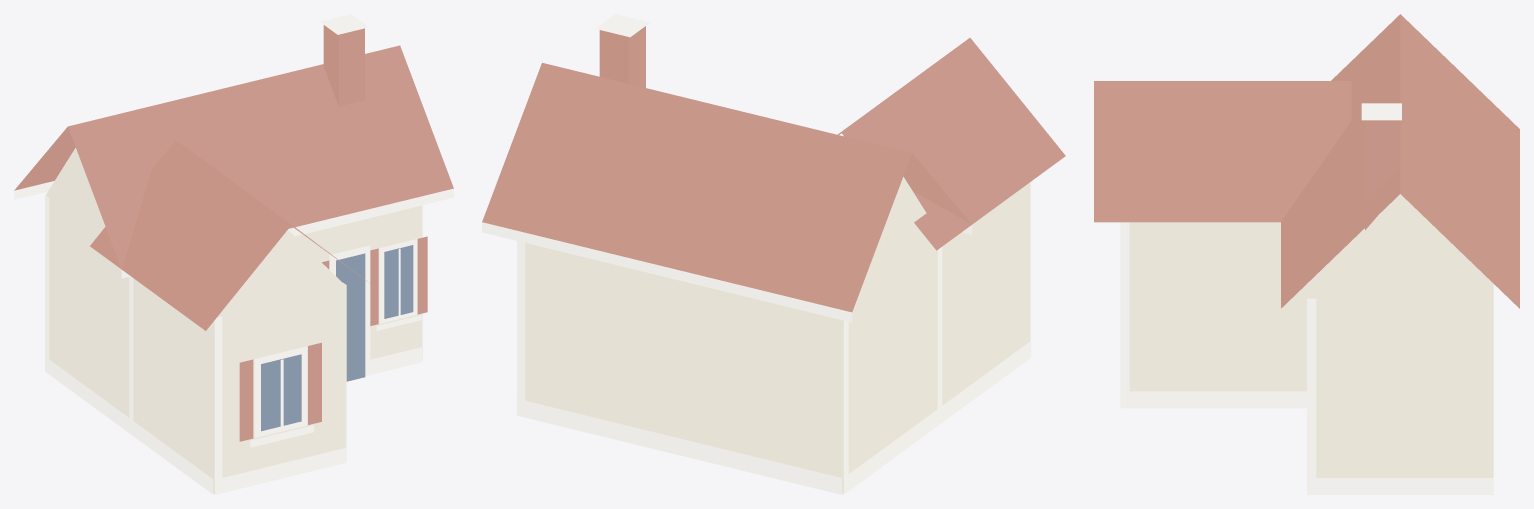
The model's file is Blender_House_Lshape_2.glb.
The picture shows the model from 3 angles, left to right: view 1: azimuth 30°, elevation 25°; view 2: azimuth 150°, elevation 25°; view 3: azimuth 270°, elevation 25°; orthographic projection. The views are drawn at different scales.
Visible parts, largest first — view 1: Blender_House_Lshape_2; view 2: Blender_House_Lshape_2; view 3: Blender_House_Lshape_2.
Part boxes in pixels (x1=…): Blender_House_Lshape_2: x1=14, y1=14, x2=453, y2=494; Blender_House_Lshape_2: x1=482, y1=14, x2=1065, y2=494; Blender_House_Lshape_2: x1=1094, y1=14, x2=1519, y2=494.
Bounding box in the file's own units: 1.14 × 1.06 × 1.14.
